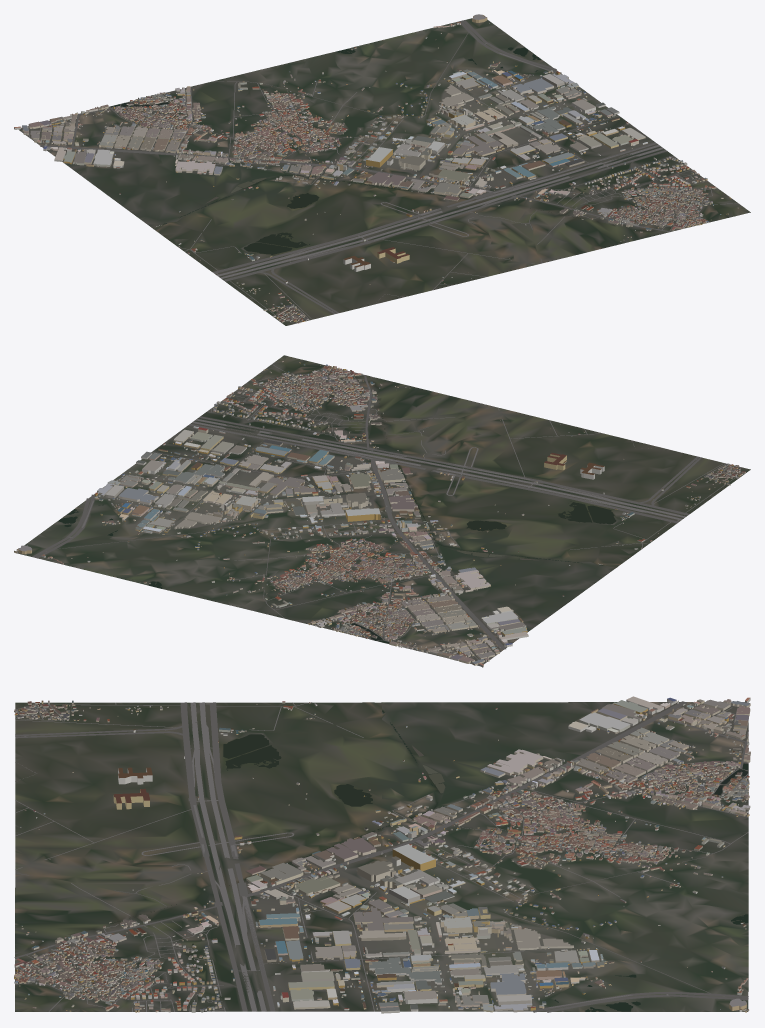
3 renders of one model, top to bottom at view 1: azimuth 30°, elevation 25°; view 2: azimuth 150°, elevation 25°; view 3: azimuth 270°, elevation 25°, orthographic. The views are drawn at different scales.
Parts seen in each view (by area): view 1: ground, buildings, roads, water; view 2: ground, buildings, roads, water; view 3: ground, buildings, roads, water.
Boxes of the visible parts, left/top/right/bottom form: ground: left=19, top=18, right=750, bottom=325; buildings: left=14, top=14, right=738, bottom=323; roads: left=27, top=20, right=738, bottom=323; water: left=111, top=47, right=614, bottom=254; ground: left=14, top=355, right=750, bottom=665; buildings: left=14, top=361, right=745, bottom=667; roads: left=32, top=364, right=740, bottom=663; water: left=58, top=399, right=616, bottom=643; ground: left=15, top=702, right=748, bottom=1011; buildings: left=14, top=696, right=750, bottom=1013; roads: left=14, top=701, right=748, bottom=1012; water: left=52, top=710, right=748, bottom=1011.
Size of the model in its own units: 2848 by 40.5 by 2817.
